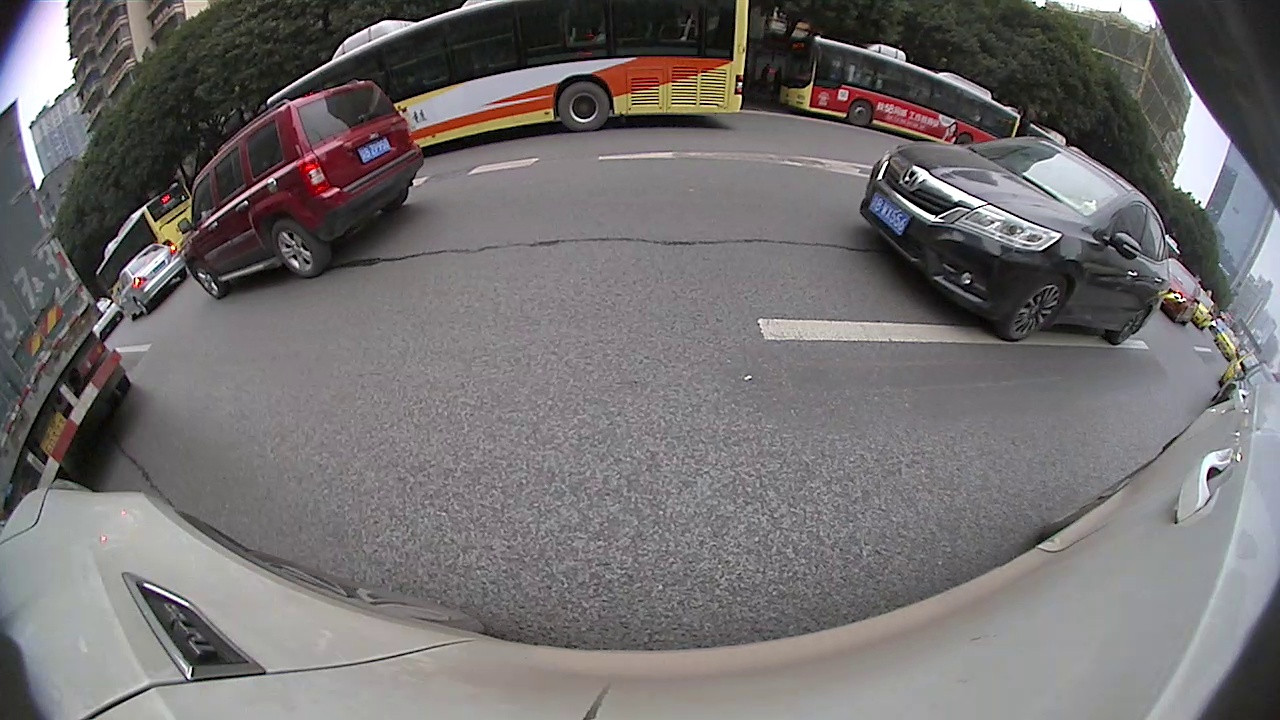bus: (266, 1, 748, 148), (777, 36, 1020, 137), (92, 177, 194, 293)
car: (861, 137, 1172, 347), (187, 76, 426, 302), (114, 241, 188, 324), (1160, 262, 1203, 324), (1214, 363, 1276, 400)
front: (994, 272, 1069, 344), (191, 261, 231, 303), (845, 99, 876, 128)
rear: (271, 219, 330, 281), (557, 81, 613, 133), (1105, 304, 1152, 347), (133, 298, 151, 317), (955, 130, 974, 147)
truck: (1, 100, 131, 496)
